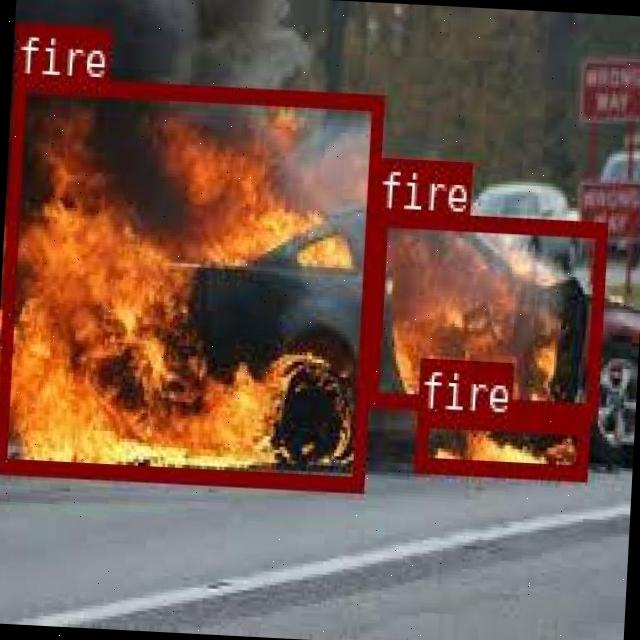fire: (0, 73, 381, 487), (367, 210, 606, 414), (413, 408, 588, 478)
